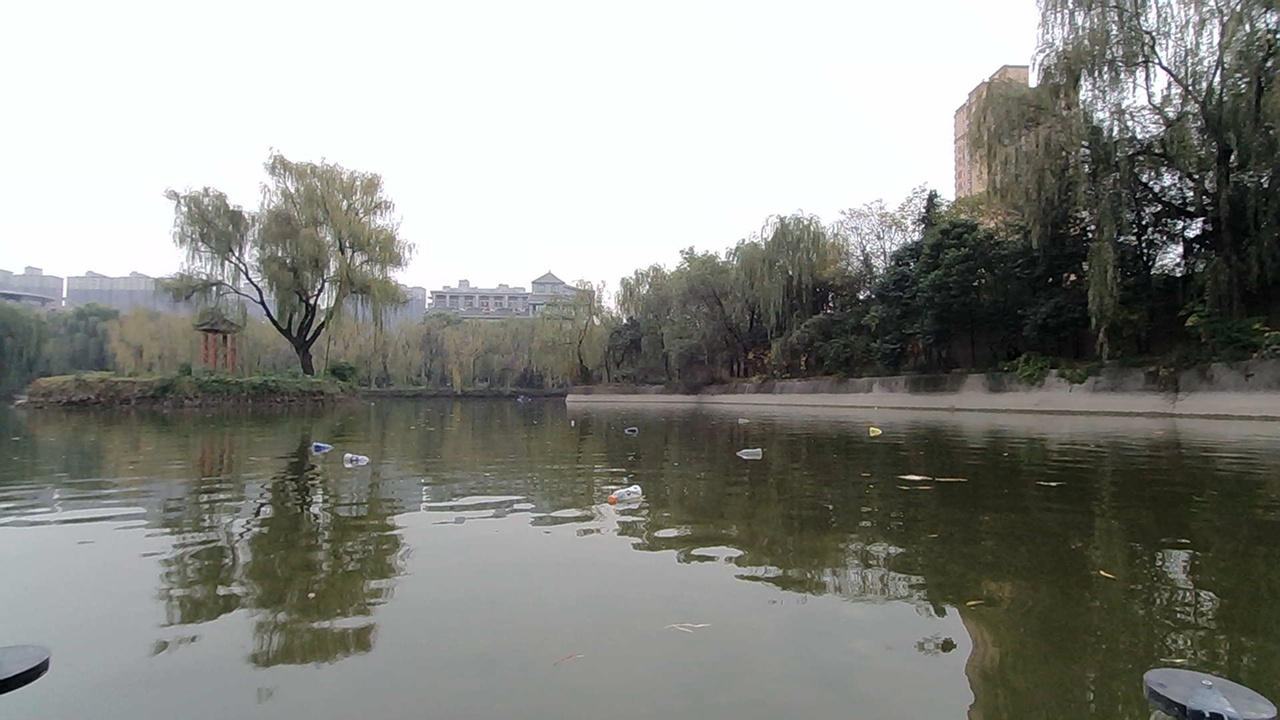bottle: (724, 426, 774, 470), (336, 438, 378, 476), (605, 482, 645, 512), (616, 408, 650, 440), (860, 419, 887, 448), (571, 406, 601, 431), (309, 435, 333, 462)
